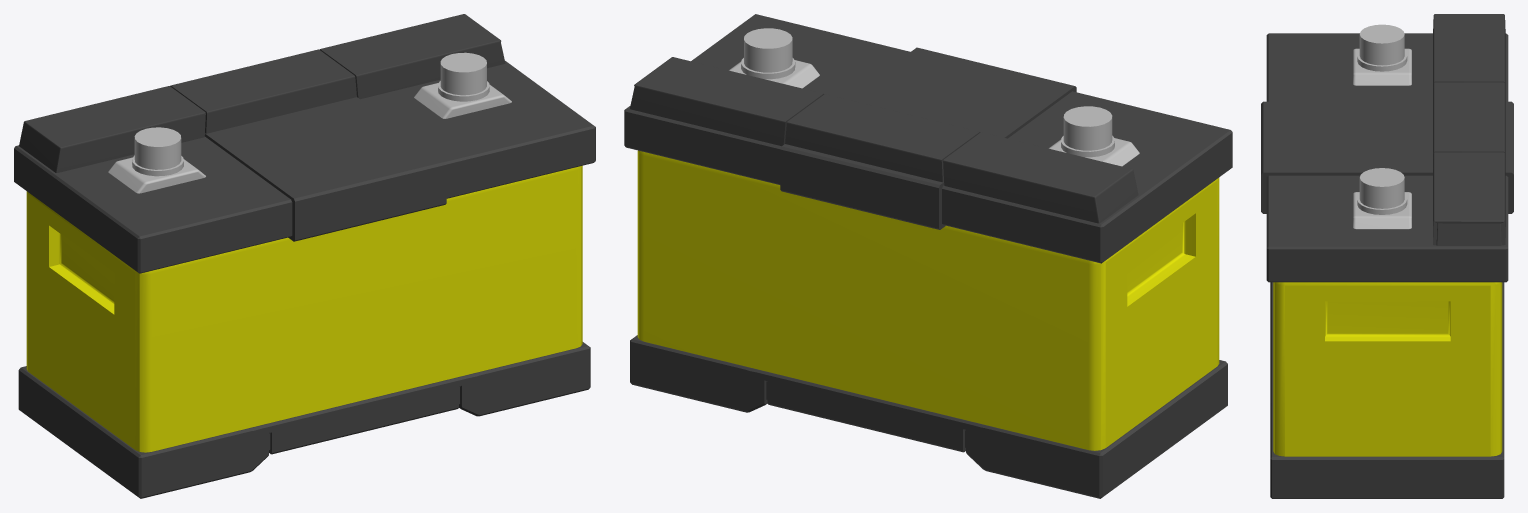
File: Baterry.fbx
The picture shows the model from 3 angles, left to right: view 1: azimuth 30°, elevation 25°; view 2: azimuth 150°, elevation 25°; view 3: azimuth 270°, elevation 25°; orthographic projection. The views are drawn at different scales.
Parts seen in each view (by area): view 1: pCube32; view 2: pCube32; view 3: pCube32.
Part boxes in pixels (box(x1,y1,x2,y2)): pCube32: box(14, 14, 595, 498); pCube32: box(624, 14, 1232, 498); pCube32: box(1261, 14, 1513, 498).
Bounding box in the file's own units: 12.45 × 7.83 × 6.19.
